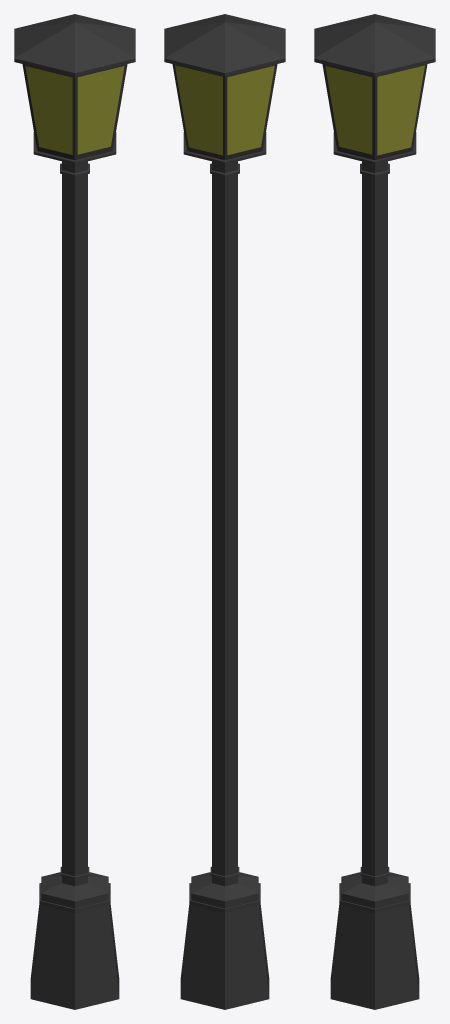
The model's file is Lantaarn.obj.
3 views of the same model, side by side, from view 1: azimuth 30°, elevation 25°; view 2: azimuth 150°, elevation 25°; view 3: azimuth 330°, elevation 25° (orthographic).
Parts seen in each view (by area): view 1: lantarenpaal_pCylinder1; view 2: lantarenpaal_pCylinder1; view 3: lantarenpaal_pCylinder1.
Boxes of the visible parts, x1=… form: lantarenpaal_pCylinder1: x1=14, y1=14, x2=135, y2=1009; lantarenpaal_pCylinder1: x1=164, y1=14, x2=285, y2=1009; lantarenpaal_pCylinder1: x1=314, y1=14, x2=435, y2=1009.
Size of the model in its own units: 2.75 by 20.89 by 2.38.
